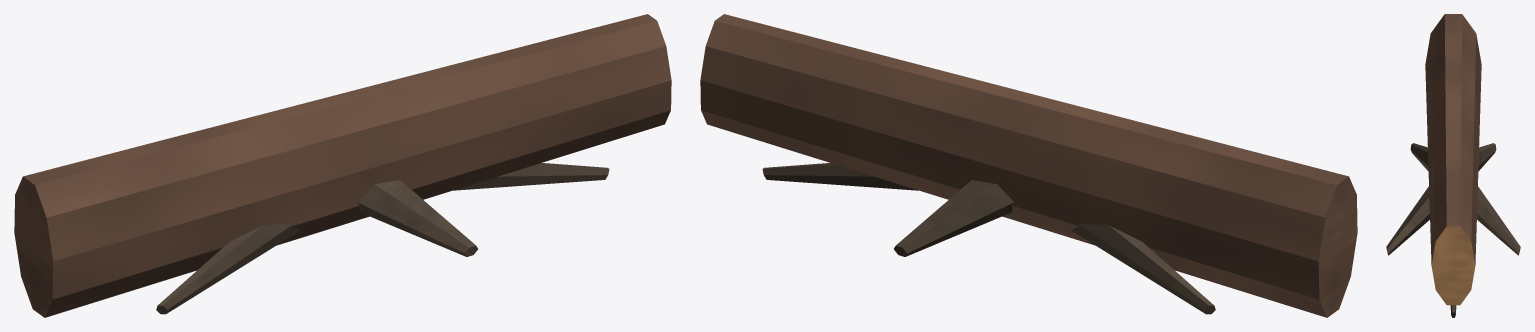
Rendered from log_fallen_02.fbx.
3 views of the same model, side by side, from view 1: azimuth 30°, elevation 25°; view 2: azimuth 150°, elevation 25°; view 3: azimuth 270°, elevation 25° (orthographic). The views are drawn at different scales.
Visible parts, largest first — view 1: log_fallen_02; view 2: log_fallen_02; view 3: log_fallen_02.
Part boxes in pixels (bbox=[...]): log_fallen_02: bbox=[14, 14, 671, 317]; log_fallen_02: bbox=[700, 14, 1357, 317]; log_fallen_02: bbox=[1386, 14, 1520, 317].
Size of the model in its own units: 550 by 125 by 140.
1 material, 1 textured.
